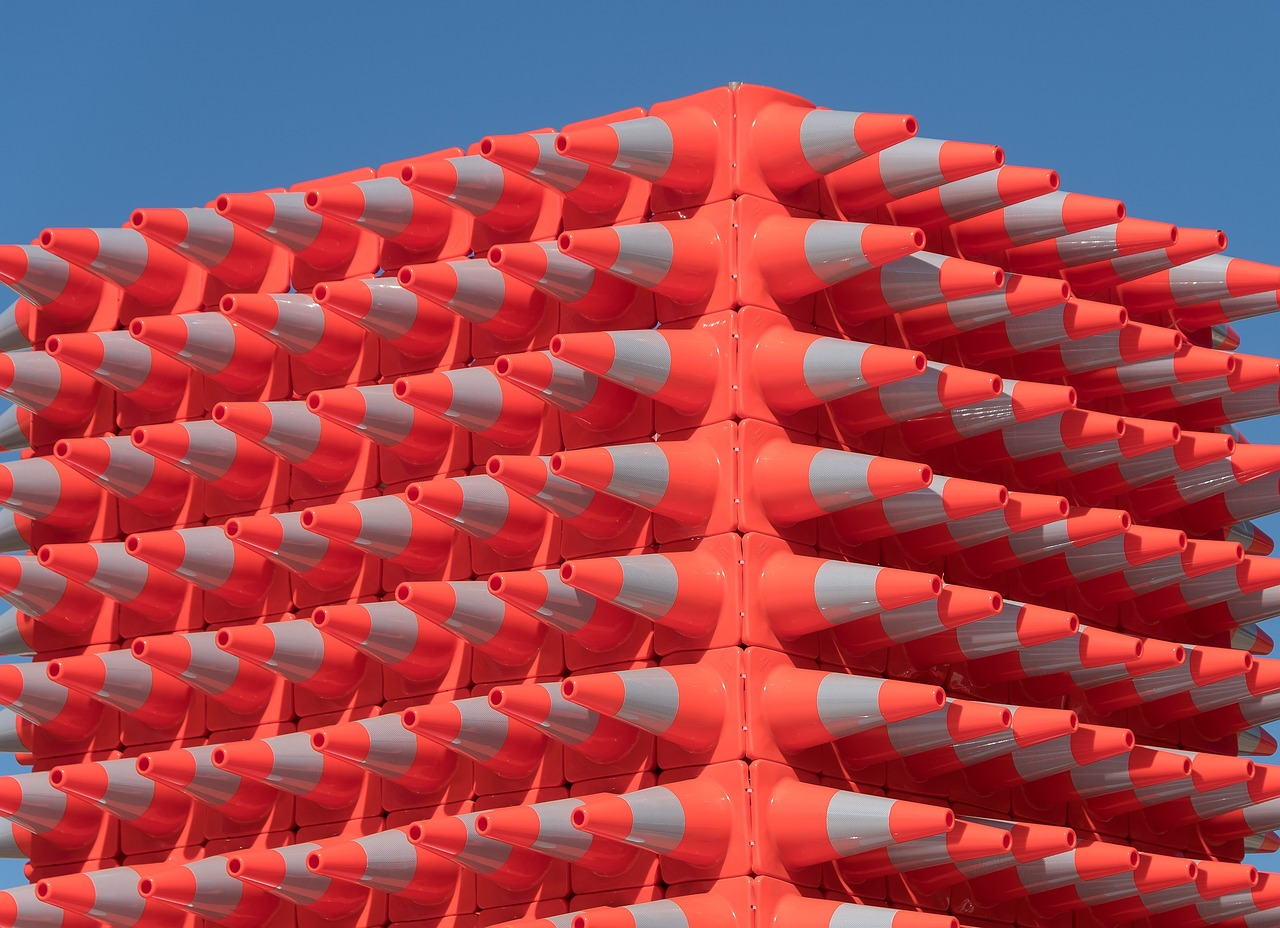traffic_cone: (1, 82, 1279, 926)
